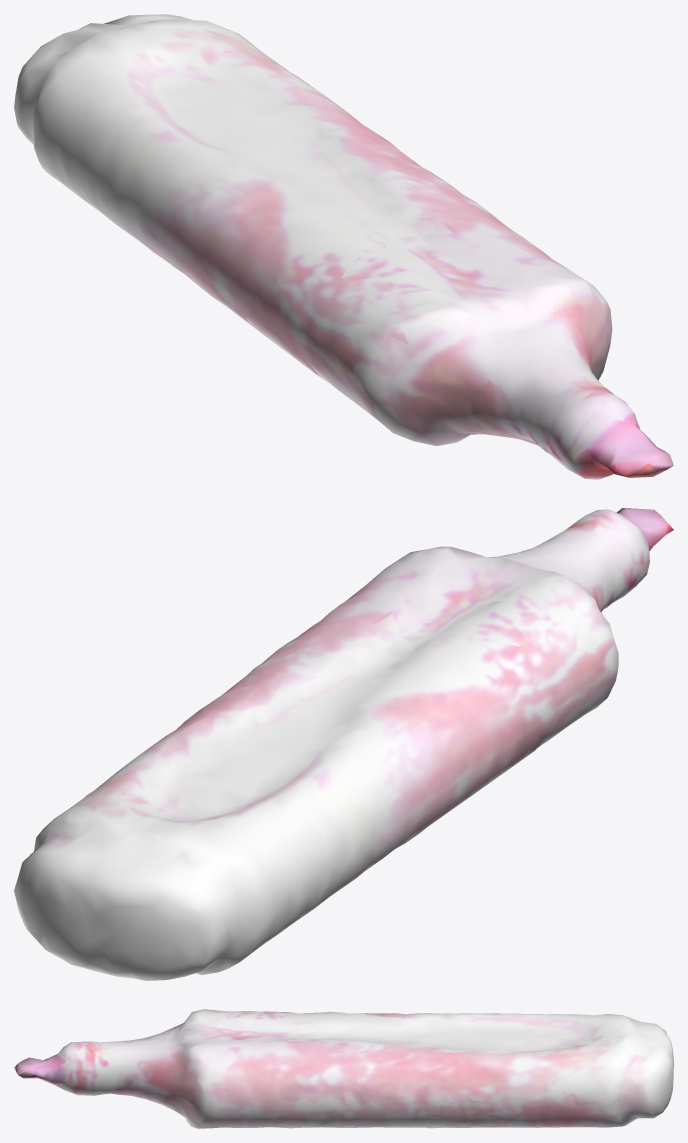
File: scan_align.obj
3 views of the same model, one above another, from view 1: azimuth 30°, elevation 25°; view 2: azimuth 150°, elevation 25°; view 3: azimuth 270°, elevation 25° (orthographic). The views are drawn at different scales.
Bounding box in the file's own units: 0.026 × 0.0138 × 0.1021.
1 material, 1 textured.
